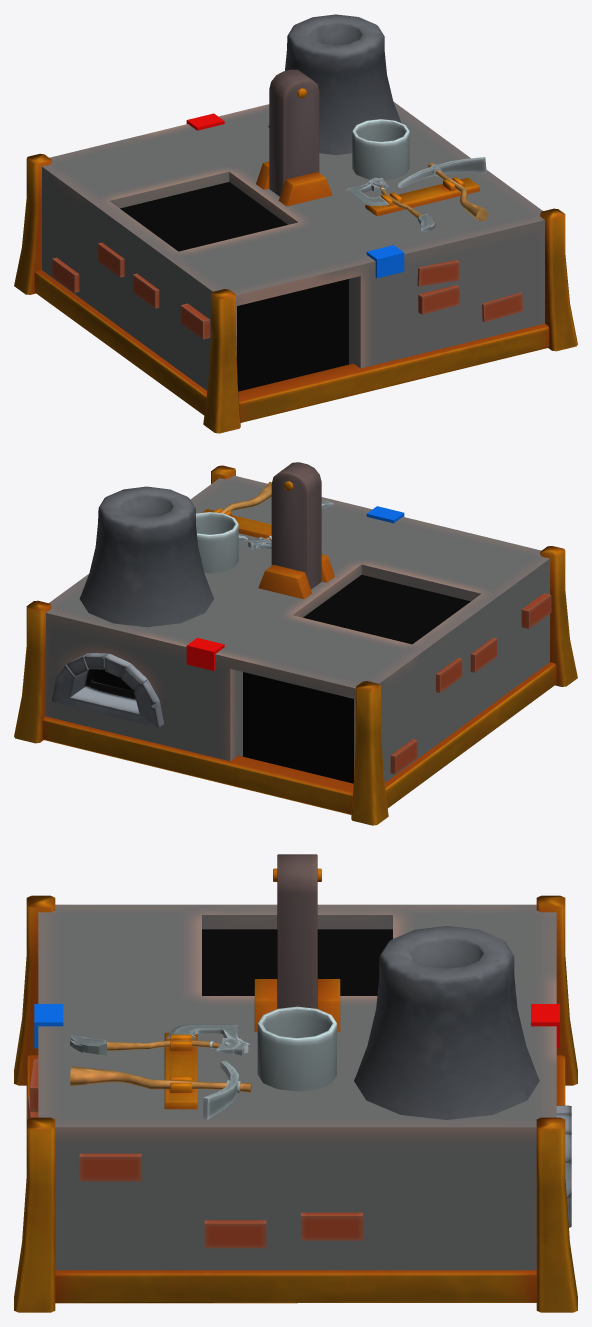
The picture shows the model from 3 angles, top to bottom: view 1: azimuth 30°, elevation 25°; view 2: azimuth 150°, elevation 25°; view 3: azimuth 270°, elevation 25°; orthographic projection. The views are drawn at different scales.
Parts seen in each view (by area): view 1: Cylinder.001_Baked; view 2: Cylinder.001_Baked; view 3: Cylinder.001_Baked.
Part boxes in pixels (left/top/right/bottom): Cylinder.001_Baked: left=14, top=14, right=577, bottom=433; Cylinder.001_Baked: left=14, top=462, right=577, bottom=825; Cylinder.001_Baked: left=14, top=854, right=577, bottom=1312.
Size of the model in its own units: 200 by 126 by 195.
Materials: 1 (1 with a texture image).
